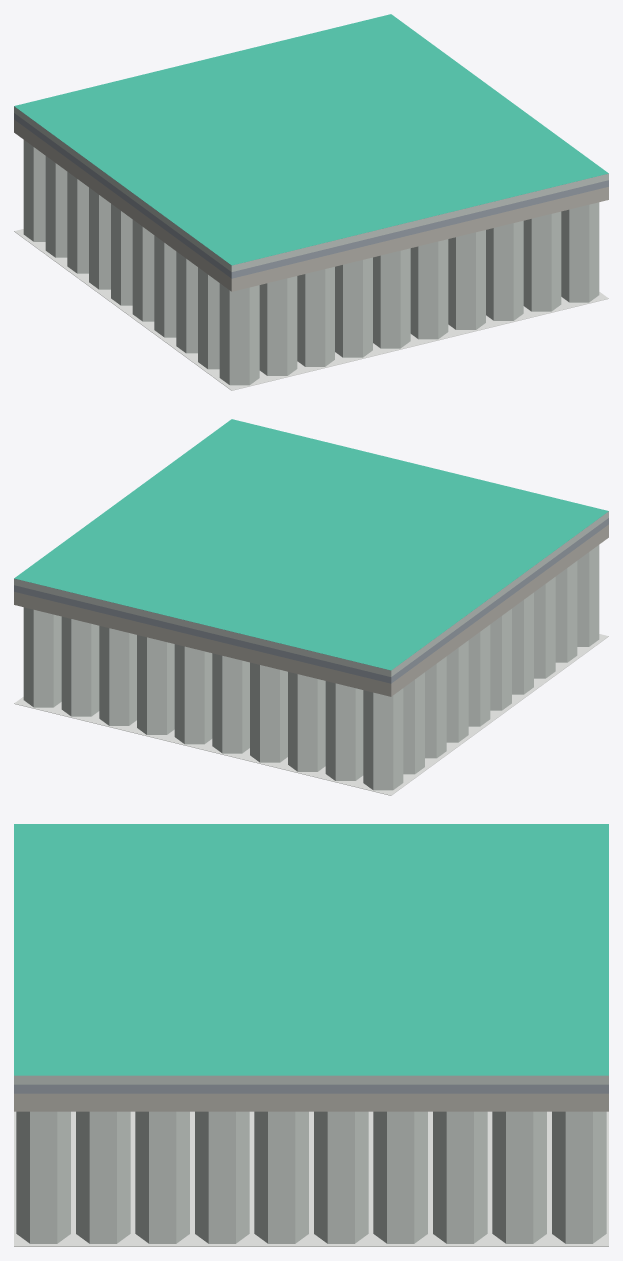
Rendered from wall_panel.glb.
3 renders of one model, top to bottom at view 1: azimuth 30°, elevation 25°; view 2: azimuth 150°, elevation 25°; view 3: azimuth 270°, elevation 25°, orthographic. The views are drawn at different scales.
Parts seen in each view (by area): view 1: wall_panel; view 2: wall_panel; view 3: wall_panel.
Boxes of the visible parts, x1,y1,x2,y2 form: wall_panel: (14, 14, 608, 390); wall_panel: (14, 419, 608, 795); wall_panel: (14, 824, 608, 1246).
Size of the model in its own units: 1 by 0.3178 by 1.
